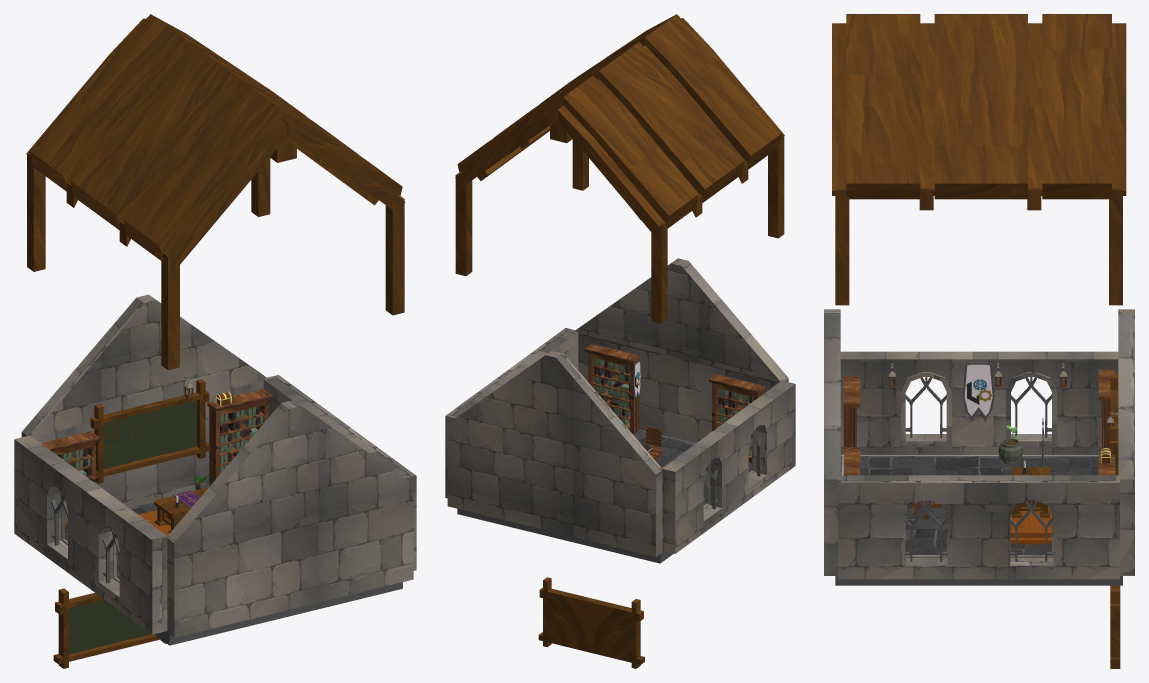
File: CLASSROOM.fbx
3 renders of one model, left to right at view 1: azimuth 30°, elevation 25°; view 2: azimuth 150°, elevation 25°; view 3: azimuth 270°, elevation 25°, orthographic. The views are drawn at different scales.
Parts seen in each view (by area): view 1: Cube.312, Cube.276, Cube.309, Cube.290, Cube.315, Cube.239, Cube.299; view 2: Cube.312, Cube.276, Cube.290, Cube.301, Cube.307; view 3: Cube.312, Cube.276, Cube.307, Cube.290, Cube.239, Cube.309, Cube.299, Cylinder.095, Cube.301.
Part boxes in pixels (box(x1,y1,x2,y2)): Cube.312: box(14, 294, 416, 645); Cube.276: box(26, 14, 405, 370); Cube.309: box(90, 379, 210, 483); Cube.290: box(53, 588, 166, 668); Cube.315: box(207, 389, 271, 486); Cube.239: box(41, 431, 98, 529); Cube.299: box(154, 487, 208, 533); Cube.312: box(445, 258, 795, 563); Cube.276: box(455, 14, 784, 323); Cube.290: box(538, 577, 644, 668); Cube.301: box(585, 343, 641, 434); Cube.307: box(709, 374, 765, 462); Cube.312: box(824, 309, 1134, 585); Cube.276: box(832, 14, 1126, 305); Cube.307: box(843, 376, 860, 447); Cube.290: box(1110, 585, 1120, 668); Cube.239: box(1098, 369, 1115, 449); Cube.309: box(1110, 375, 1118, 475); Cube.299: box(1011, 467, 1050, 517); Cylinder.095: box(998, 425, 1022, 464); Cube.301: box(843, 447, 860, 475).
Size of the model in its own units: 3783 by 8655 by 3777.
